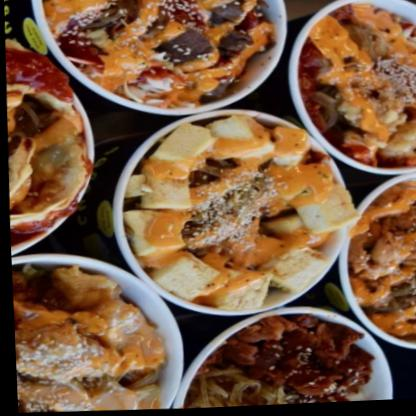cup rice: (112, 108, 350, 312), (41, 0, 290, 109), (9, 252, 169, 415), (174, 306, 395, 409), (1, 33, 99, 256), (302, 0, 415, 178), (356, 177, 415, 350)
